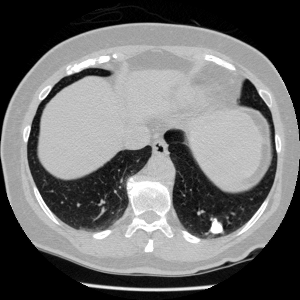nodule: (210, 221, 222, 233)
